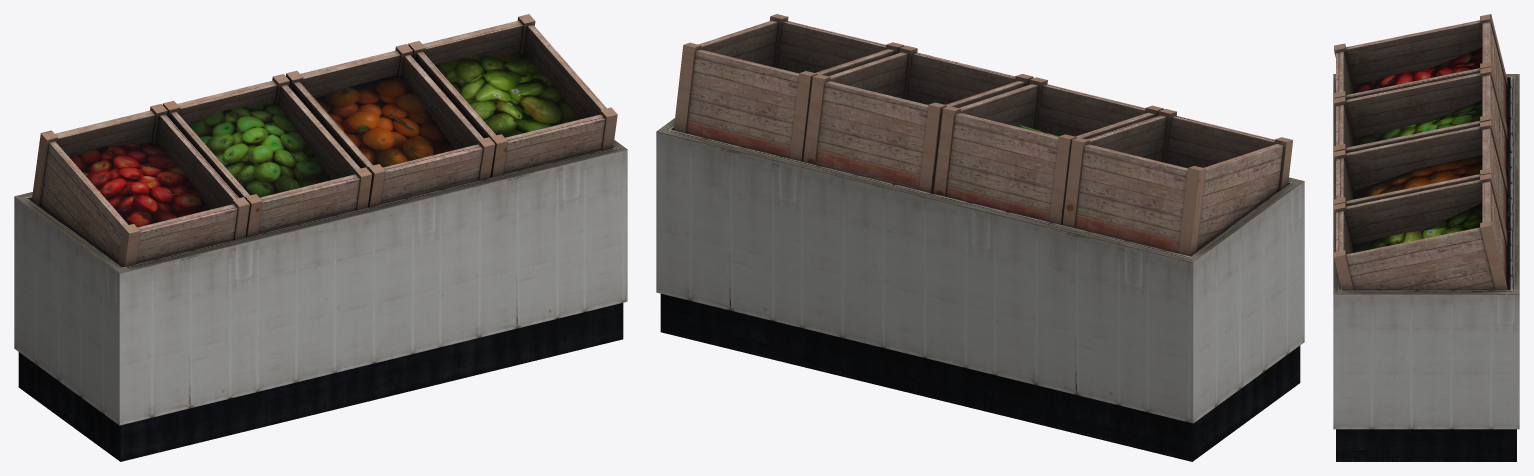
Rendered from rack_fruits.fbx.
3 views of the same model, side by side, from view 1: azimuth 30°, elevation 25°; view 2: azimuth 150°, elevation 25°; view 3: azimuth 270°, elevation 25° (orthographic). The views are drawn at different scales.
Parts seen in each view (by area): view 1: Cube; view 2: Cube; view 3: Cube.
Part boxes in pixels (x1,y1,x2,y2): Cube: (14, 14, 627, 461); Cube: (656, 14, 1304, 461); Cube: (1333, 14, 1519, 461).
Size of the model in its own units: 558 by 276 by 200.
Materials: 1 (1 with a texture image).
